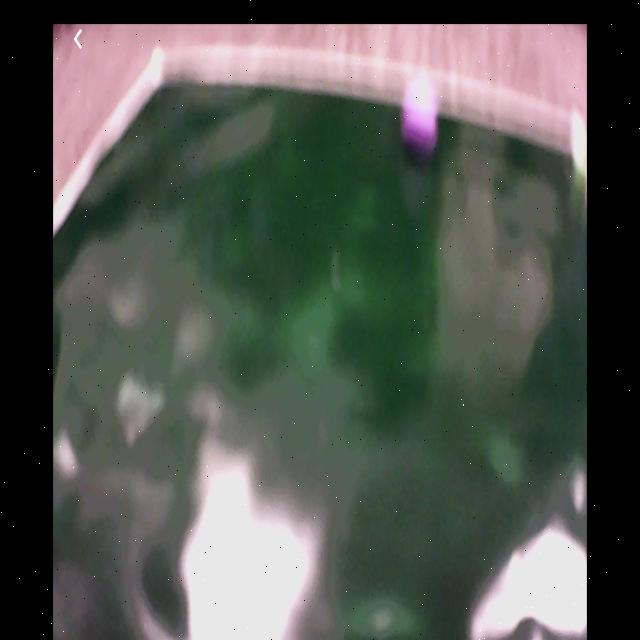ball: (402, 101, 440, 154)
